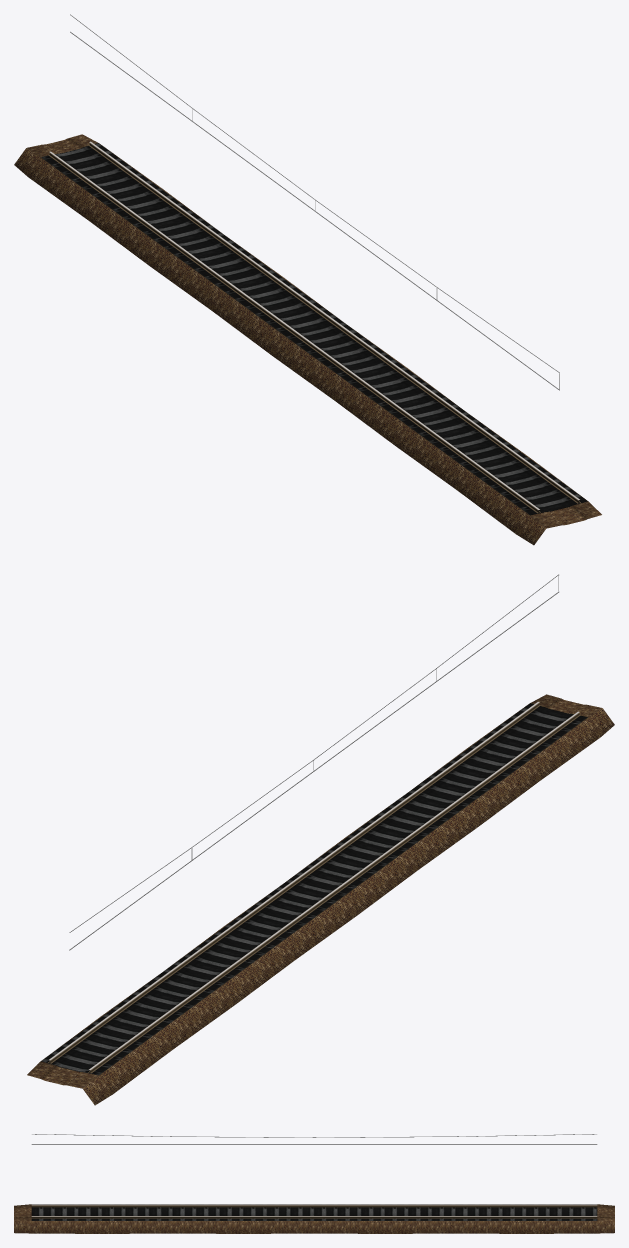
Rendered from AMB_HQ_1RAIL100.glb.
3 renders of one model, top to bottom at view 1: azimuth 30°, elevation 25°; view 2: azimuth 150°, elevation 25°; view 3: azimuth 270°, elevation 25°, orthographic. The views are drawn at different scales.
Parts seen in each view (by area): view 1: obj1; view 2: obj1; view 3: obj1.
Part boxes in pixels (x1,y1,x2,y2): obj1: (14,14,601,545); obj1: (27,574,614,1105); obj1: (14,1134,614,1233).
Size of the model in its own units: 10.09 by 17.11 by 106.
6 materials, 4 textured.
